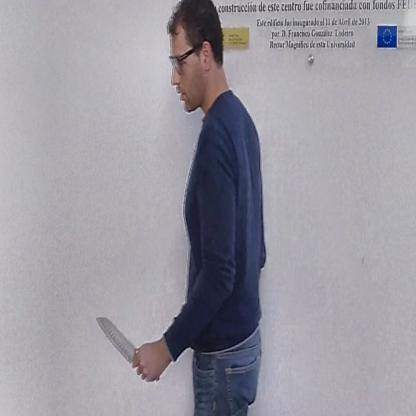knife: (90, 310, 160, 384)
